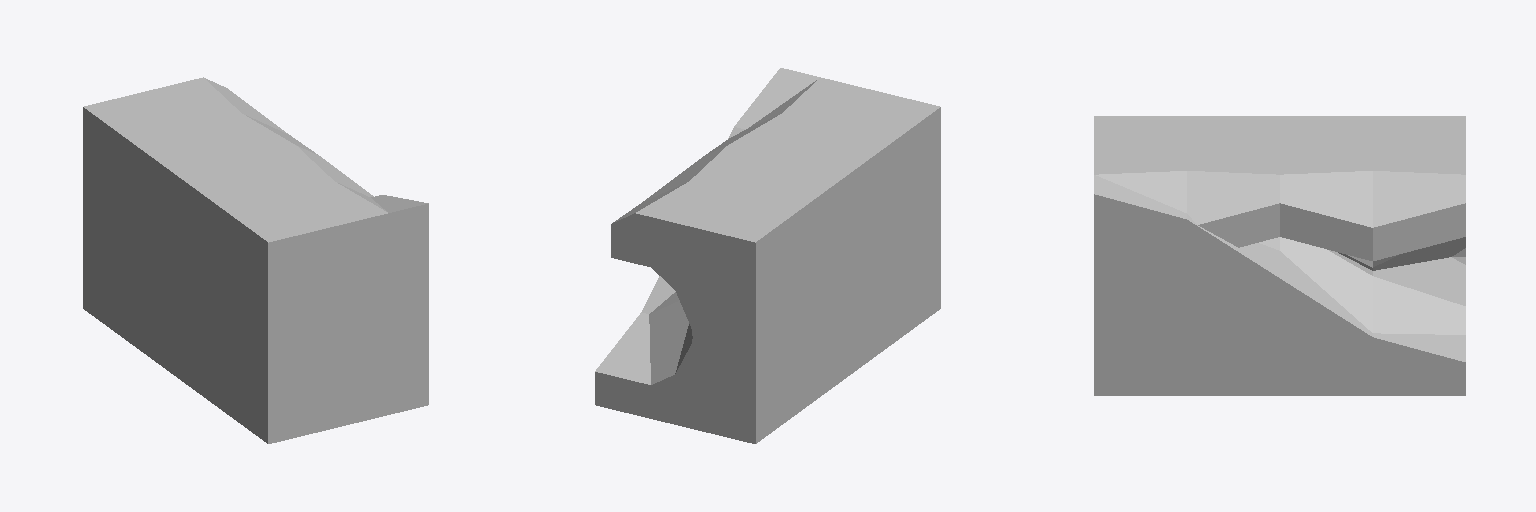
File: Cliff_Base_Top_Joined_Hill_Sharp.obj
3 renders of one model, left to right at view 1: azimuth 30°, elevation 25°; view 2: azimuth 150°, elevation 25°; view 3: azimuth 270°, elevation 25°, orthographic.
Parts seen in each view (by area): view 1: object1; view 2: object1; view 3: object1.
Part boxes in pixels (bbox=[...]): object1: bbox=[83, 77, 428, 443]; object1: bbox=[595, 68, 940, 443]; object1: bbox=[1094, 116, 1465, 395].
Size of the model in its own units: 1 by 1.2 by 2.